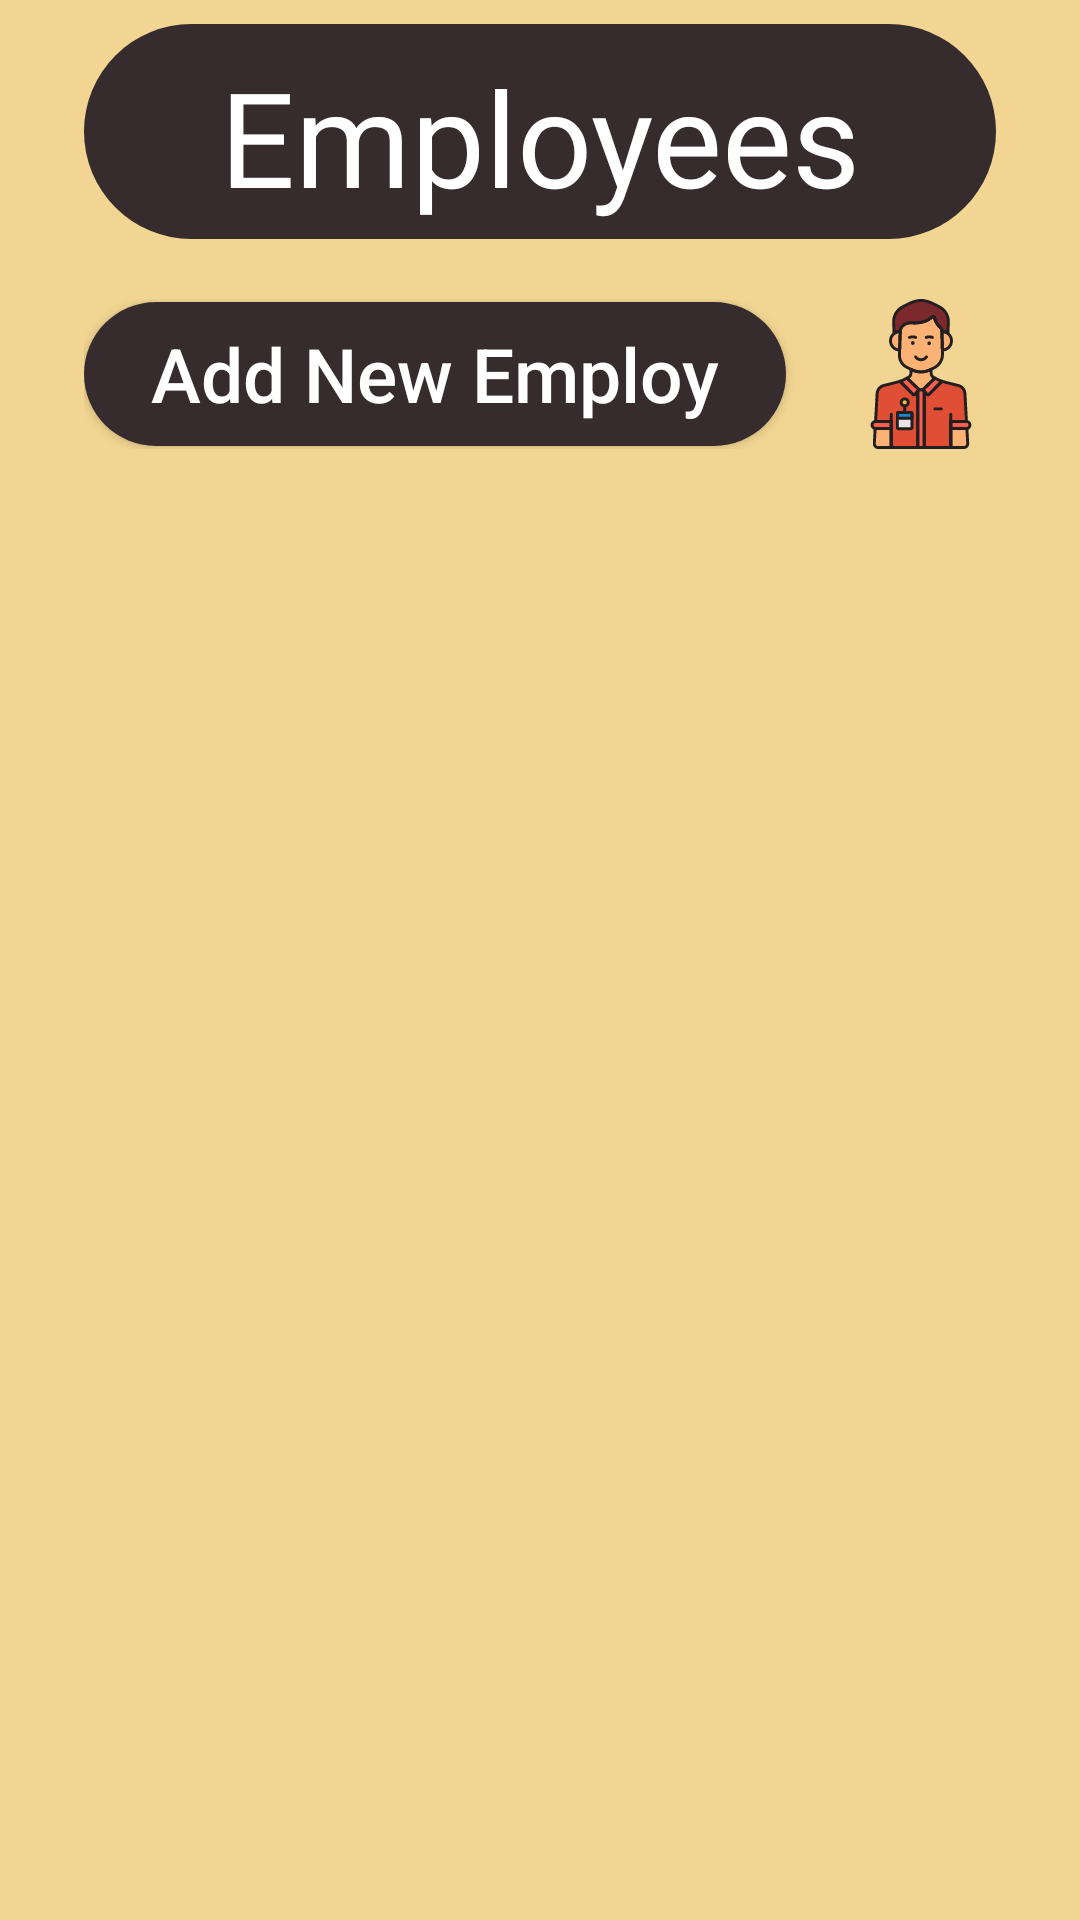

Named icons in this screenshot (1080x1920) and their bounding boxes, bbox=(x1, y1, x2, y2):
business: bbox=(870, 299, 972, 449)
